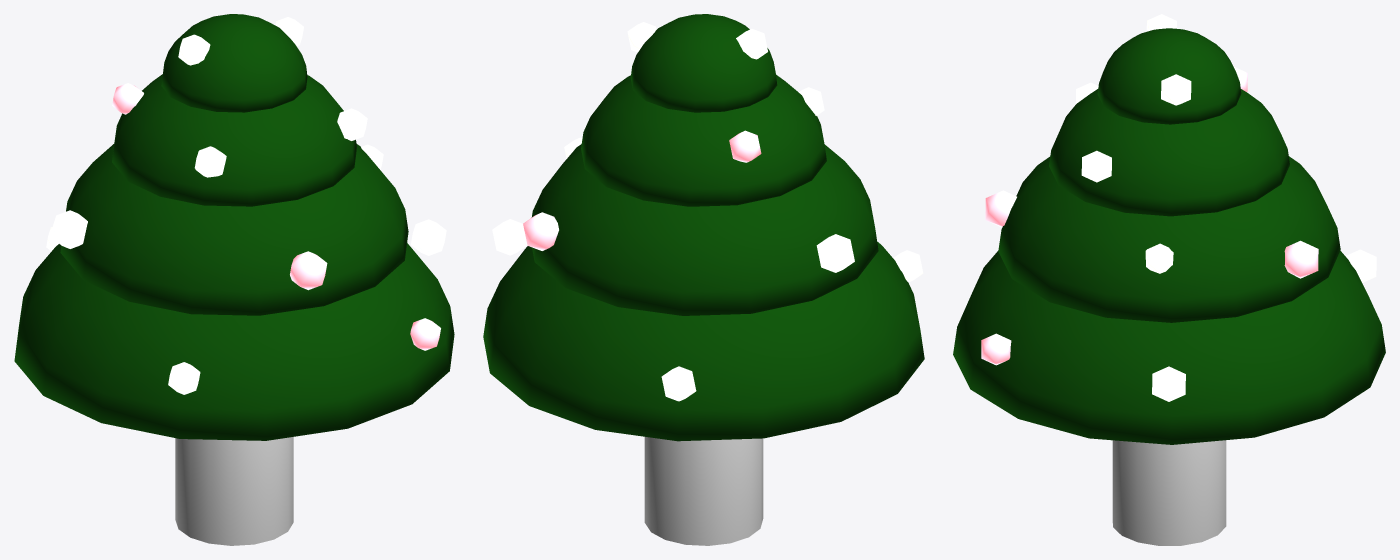
Rendered from ARBOL 2.fbx.
3 views of the same model, side by side, from view 1: azimuth 30°, elevation 25°; view 2: azimuth 150°, elevation 25°; view 3: azimuth 270°, elevation 25° (orthographic). The views are drawn at different scales.
Parts seen in each view (by area): view 1: Arbol Navidad; view 2: Arbol Navidad; view 3: Arbol Navidad.
Boxes of the visible parts, left/top/right/bottom form: Arbol Navidad: left=14, top=14, right=454, bottom=545; Arbol Navidad: left=483, top=14, right=924, bottom=545; Arbol Navidad: left=953, top=14, right=1385, bottom=545.
Size of the model in its own units: 1608 by 1910 by 1539.
